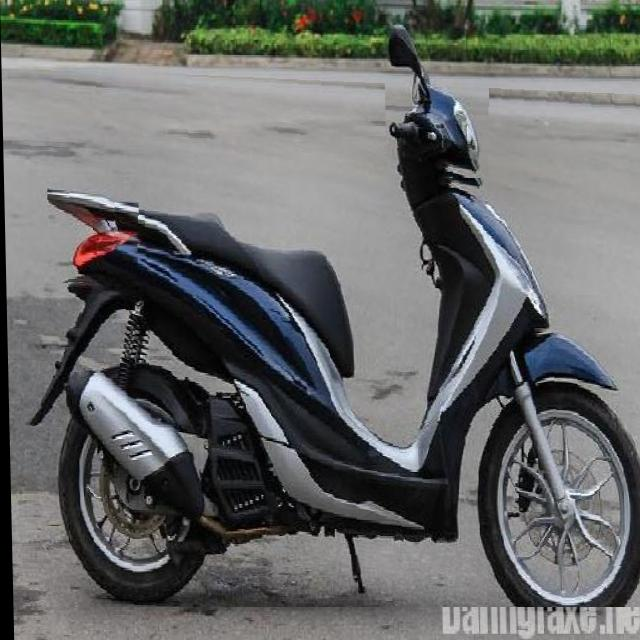All: (16, 67, 640, 607)
Head: (384, 79, 490, 178)
Tail: (46, 177, 140, 283)
